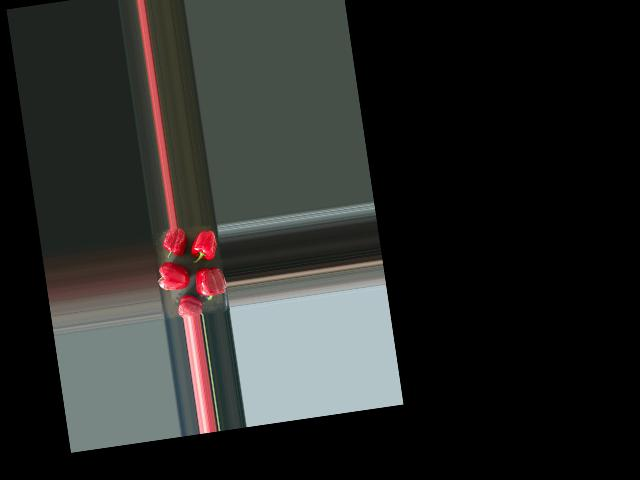bell_pepper: (171, 292, 205, 318)
